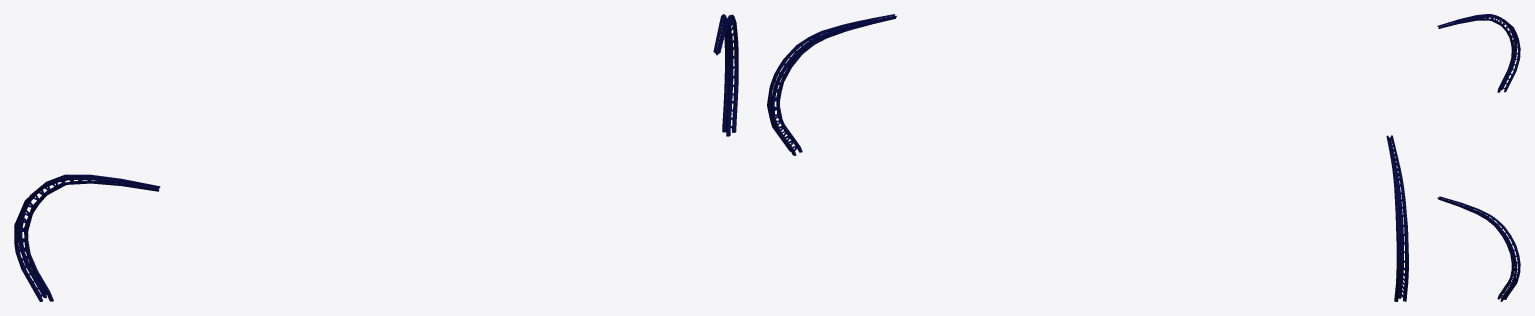
The model's file is Al_Nasar_Football_Stadium_NurbsPath_020.FBX.
The picture shows the model from 3 angles, left to right: view 1: azimuth 30°, elevation 25°; view 2: azimuth 150°, elevation 25°; view 3: azimuth 270°, elevation 25°; orthographic projection. The views are drawn at different scales.
Visible parts, largest first — view 1: Al_Nasar_Football_Stadium_NurbsPath_020; view 2: Al_Nasar_Football_Stadium_NurbsPath_020; view 3: Al_Nasar_Football_Stadium_NurbsPath_020.
Part boxes in pixels (x1=…): Al_Nasar_Football_Stadium_NurbsPath_020: x1=14, y1=14, x2=738, y2=301; Al_Nasar_Football_Stadium_NurbsPath_020: x1=767, y1=14, x2=1408, y2=301; Al_Nasar_Football_Stadium_NurbsPath_020: x1=1437, y1=14, x2=1520, y2=301.
Size of the model in its own units: 21791 by 3463 by 3873.
